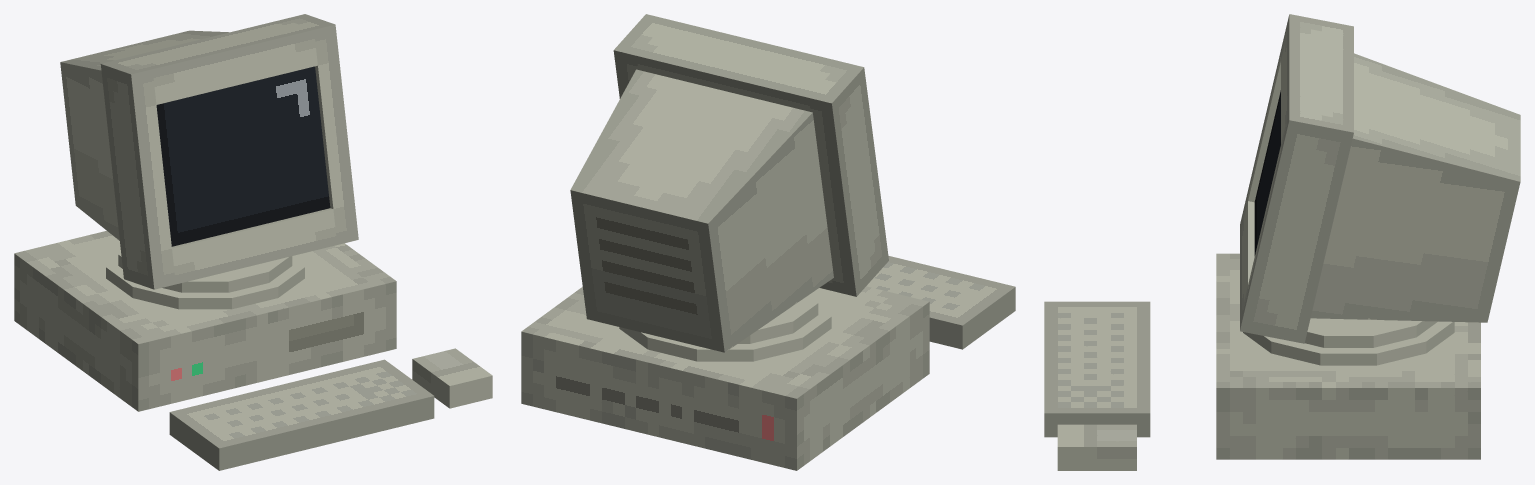
The picture shows the model from 3 angles, left to right: view 1: azimuth 30°, elevation 25°; view 2: azimuth 150°, elevation 25°; view 3: azimuth 270°, elevation 25°; orthographic projection. The views are drawn at different scales.
Visible parts, largest first — view 1: cuboid_7, cuboid_1, cuboid_8, cuboid_3, cuboid_4, cuboid, cuboid_5, cuboid_2, cylinder, cuboid_9, cylinder_1; view 2: cuboid, cuboid_7, cuboid_3, cuboid_4, cuboid_8, cylinder, cuboid_2, cylinder_1; view 3: cuboid, cuboid_7, cuboid_2, cuboid_8, cuboid_4, cuboid_9, cylinder, cylinder_1, cuboid_3, cuboid_1, cuboid_5.
Boxes of the visible parts, box(x1,y1,x2,y2) form: cuboid_7: box(14, 230, 396, 411); cuboid_1: box(156, 66, 330, 246); cuboid_8: box(169, 359, 434, 470); cuboid_3: box(100, 58, 175, 289); cuboid_4: box(122, 19, 317, 104); cuboid: box(60, 30, 228, 240); cuboid_5: box(172, 208, 337, 284); cuboid_2: box(284, 14, 358, 244); cylinder: box(106, 238, 304, 309); cuboid_9: box(412, 348, 492, 408); cylinder_1: box(118, 240, 292, 292); cuboid: box(570, 69, 833, 352); cuboid_7: box(521, 286, 929, 470); cuboid_3: box(809, 61, 888, 296); cuboid_4: box(636, 19, 840, 111); cuboid_8: box(866, 255, 1015, 349); cylinder: box(619, 288, 831, 361); cuboid_2: box(613, 14, 668, 98); cylinder_1: box(738, 289, 818, 343); cuboid: box(1310, 53, 1520, 322); cuboid_7: box(1216, 253, 1480, 459); cuboid_2: box(1240, 109, 1353, 343); cuboid_8: box(1044, 301, 1150, 437); cuboid_4: box(1281, 25, 1353, 143); cuboid_9: box(1057, 424, 1136, 470); cylinder: box(1243, 321, 1454, 365); cylinder_1: box(1305, 318, 1437, 347); cuboid_3: box(1240, 14, 1353, 234); cuboid_1: box(1254, 90, 1280, 255); cuboid_5: box(1240, 201, 1254, 318).
Bounding box in the file's own units: 0.8125 × 0.8486 × 1.12.
Materials: 3 (3 with a texture image).
